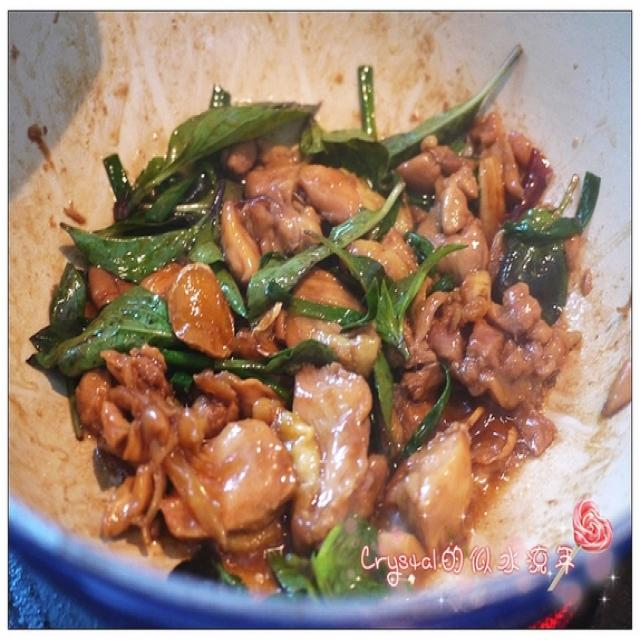鸡肉料理 含炸鸡: (33, 31, 600, 602)
